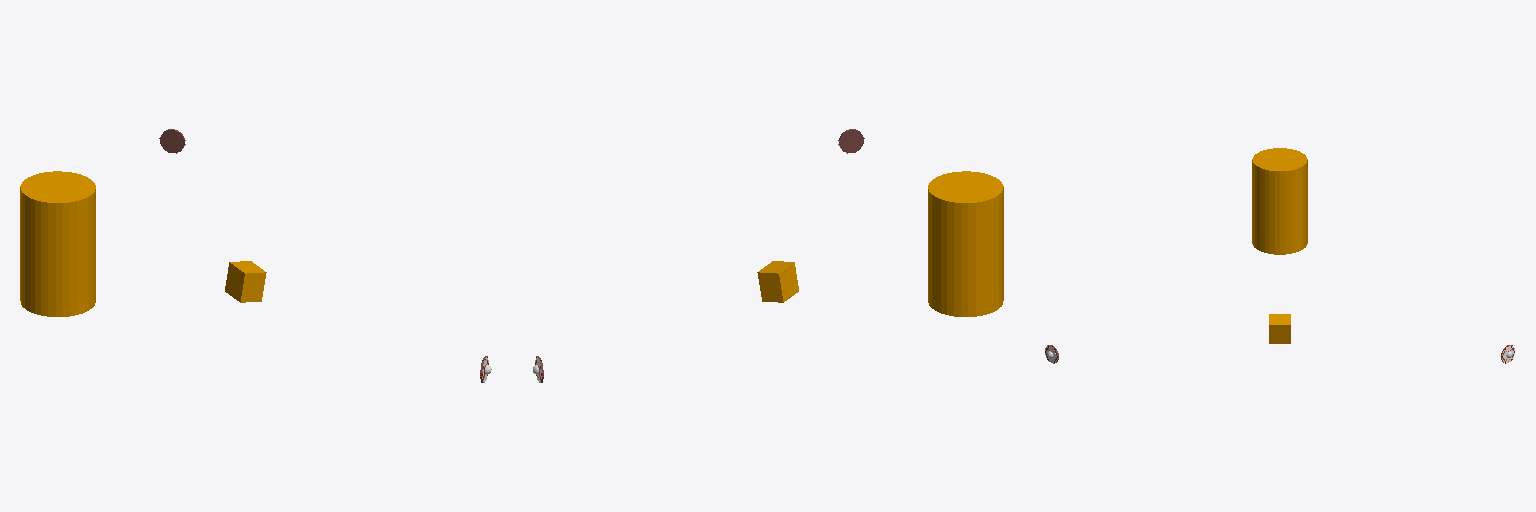
URDF robot description (M100):
<?xml version='1.0' encoding='utf-8'?>
<robot name='M100'>
  <link name='base_link'>
    <inertial>
      <origin xyz='0 0 0' rpy='0 -0 0'/>
      <mass value='3.76'/>
      <inertia ixx='0.017' ixy='0' ixz='0' iyy='0.018' iyz='0' izz='0.028'/>
    </inertial>
    <collision name='base_link_inertia_collision'>
      <origin xyz='0 0 0' rpy='0 -0 0'/>
      <geometry>
        <box size='0.82 0.82 0.375'/>
      </geometry>
    </collision>
    <visual name='base_link_inertia_visual'>
      <origin xyz='0 0 0' rpy='0 -0 0'/>
      <geometry>
        <mesh filename='package://meshes/m100.dae' scale='1 1 1'/>
      </geometry>
    </visual>
    <visual name='left_flashlight_led'>
      <origin xyz='0.247592 0.24728 -0.017556' rpy='0 -0 2.35619'/>
      <geometry>
        <mesh filename='package://meshes/cree_xhp70.dae' scale='1 1 1'/>
      </geometry>
    </visual>
    <visual name='right_flashlight_led'>
      <origin xyz='0.247592 -0.24728 -0.017556' rpy='0 -0 0.785398'/>
      <geometry>
        <mesh filename='package://meshes/cree_xhp70.dae' scale='1 1 1'/>
      </geometry>
    </visual>
    <visual name='camera_visual'>
      <origin xyz='0.172 0 -0.023' rpy='0 0.174533 0'/>
      <geometry>
        <box size='0.02 0.025 0.025'/>
      </geometry>
    </visual>
    <visual name='laser_visual'>
      <origin xyz='0 0 0.05' rpy='0 -0 0'/>
      <geometry>
        <cylinder radius='0.03' length='0.1'/>
      </geometry>
    </visual>
  </link>
  <sensor name='imu_sensor' update_rate='200'>
    <parent link='base_link'/>
    <origin xyz='0 0 0' rpy='0 -0 0'/>
  </sensor>
  <sensor name='magnetometer' update_rate='20'>
    <parent link='base_link'/>
    <origin xyz='0 0 0' rpy='0 -0 0'/>
  </sensor>
  <sensor name='camera_front' update_rate='20'>
    <parent link='base_link'/>
    <origin xyz='0.172 0 -0.023' rpy='0 0.174533 0'/>
    <camera>
      <image width='1280' height='960' format='R8G8B8' hfov='2.0944' near='0.01' far='300' />
    </camera>
  </sensor>
  <sensor name='front_laser' update_rate='10'>
    <parent link='base_link'/>
    <origin xyz='0 0 0.05' rpy='0 -0 0'/>
  </sensor>
  <link name='rotor_0'>
    <inertial>
      <origin xyz='0 0 0' rpy='0 -0 0'/>
      <mass value='0.005'/>
      <inertia ixx='9.75e-07' ixy='0' ixz='0' iyy='8.13545e-05' iyz='0' izz='8.22545e-05'/>
    </inertial>
    <collision name='rotor_0_collision'>
      <origin xyz='0 0 0' rpy='0 -0 0'/>
      <geometry>
        <cylinder radius='0.175' length='0.005'/>
      </geometry>
    </collision>
    <visual name='rotor_0_visual'>
      <origin xyz='0 0 0' rpy='0 -0 0'/>
      <geometry>
        <mesh filename='package://meshes/m100_propeller_ccw.dae' scale='0.175 0.175 0.175'/>
      </geometry>
    </visual>
  </link>
  <link name='rotor_1'>
    <inertial>
      <origin xyz='0 0 0' rpy='0 -0 0'/>
      <mass value='0.005'/>
      <inertia ixx='9.75e-07' ixy='0' ixz='0' iyy='8.13545e-05' iyz='0' izz='8.22545e-05'/>
    </inertial>
    <collision name='rotor_1_collision'>
      <origin xyz='0 0 0' rpy='0 -0 0'/>
      <geometry>
        <cylinder radius='0.175' length='0.005'/>
      </geometry>
    </collision>
    <visual name='rotor_1_visual'>
      <origin xyz='0 0 0' rpy='0 -0 0'/>
      <geometry>
        <mesh filename='package://meshes/m100_propeller_ccw.dae' scale='0.175 0.175 0.175'/>
      </geometry>
    </visual>
  </link>
  <link name='rotor_2'>
    <inertial>
      <origin xyz='0 0 0' rpy='0 -0 0'/>
      <mass value='0.005'/>
      <inertia ixx='9.75e-07' ixy='0' ixz='0' iyy='8.13545e-05' iyz='0' izz='8.22545e-05'/>
    </inertial>
    <collision name='rotor_2_collision'>
      <origin xyz='0 0 0' rpy='0 -0 0'/>
      <geometry>
        <cylinder radius='0.175' length='0.005'/>
      </geometry>
    </collision>
    <visual name='rotor_2_visual'>
      <origin xyz='0 0 0' rpy='0 -0 0'/>
      <geometry>
        <mesh filename='package://meshes/m100_propeller_cw.dae' scale='0.175 0.175 0.175'/>
      </geometry>
    </visual>
  </link>
  <link name='rotor_3'>
    <inertial>
      <origin xyz='0 0 0' rpy='0 -0 0'/>
      <mass value='0.005'/>
      <inertia ixx='9.75e-07' ixy='0' ixz='0' iyy='8.13545e-05' iyz='0' izz='8.22545e-05'/>
    </inertial>
    <collision name='rotor_3_collision'>
      <origin xyz='0 0 0' rpy='0 -0 0'/>
      <geometry>
        <cylinder radius='0.175' length='0.005'/>
      </geometry>
    </collision>
    <visual name='rotor_3_visual'>
      <origin xyz='0 0 0' rpy='0 -0 0'/>
      <geometry>
        <mesh filename='package://meshes/m100_propeller_cw.dae' scale='0.175 0.175 0.175'/>
      </geometry>
    </visual>
  </link>
  <joint name='rotor_0_joint' type='revolute'>
    <origin xyz='0.2263 -0.2263 0.038' rpy='0 -0 0'/>
    <parent link='base_link'/>
    <child link='rotor_0'/>
    <dynamics damping='0' friction='0' />
    <axis xyz='0 0 1'/>
    <limit lower='-1e+16' upper='1e+16' effort='0' velocity='0'/>
  </joint>
  <joint name='rotor_1_joint' type='revolute'>
    <origin xyz='-0.2263 0.2263 0.038' rpy='0 -0 0'/>
    <parent link='base_link'/>
    <child link='rotor_1'/>
    <dynamics damping='0' friction='0' />
    <axis xyz='0 0 1'/>
    <limit lower='-1e+16' upper='1e+16' effort='0' velocity='0'/>
  </joint>
  <joint name='rotor_2_joint' type='revolute'>
    <origin xyz='0.2263 0.2263 0.038' rpy='0 -0 0'/>
    <parent link='base_link'/>
    <child link='rotor_2'/>
    <dynamics damping='0' friction='0' />
    <axis xyz='0 0 1'/>
    <limit lower='-1e+16' upper='1e+16' effort='0' velocity='0'/>
  </joint>
  <joint name='rotor_3_joint' type='revolute'>
    <origin xyz='-0.2263 -0.2263 0.038' rpy='0 -0 0'/>
    <parent link='base_link'/>
    <child link='rotor_3'/>
    <dynamics damping='0' friction='0' />
    <axis xyz='0 0 1'/>
    <limit lower='-1e+16' upper='1e+16' effort='0' velocity='0'/>
  </joint>
</robot>

--- What the picture shows (computed from the rendered views, not written in the file) ---
Views: 3 orthographic renders of the robot side by side, from view 1: azimuth 30°, elevation 25°; view 2: azimuth 150°, elevation 25°; view 3: azimuth 270°, elevation 25°.
Model M100 with 5 links and 4 joints (4 revolute), rooted at base_link, posed all joints at 0.
Links seen in each view (by area): view 1: base_link; view 2: base_link; view 3: base_link.
Link boxes in pixels (x1,y1,x2,y2): base_link: (20, 129, 491, 382); base_link: (533, 129, 1003, 382); base_link: (1045, 148, 1514, 363).
Size in the robot's own frame: 0.2863 by 0.512 by 0.137 metres.
2 mesh visuals loaded from 4 distinct referenced files (1 Collada DAE); not drawn: 5 (reference not matched to a file when rendering).